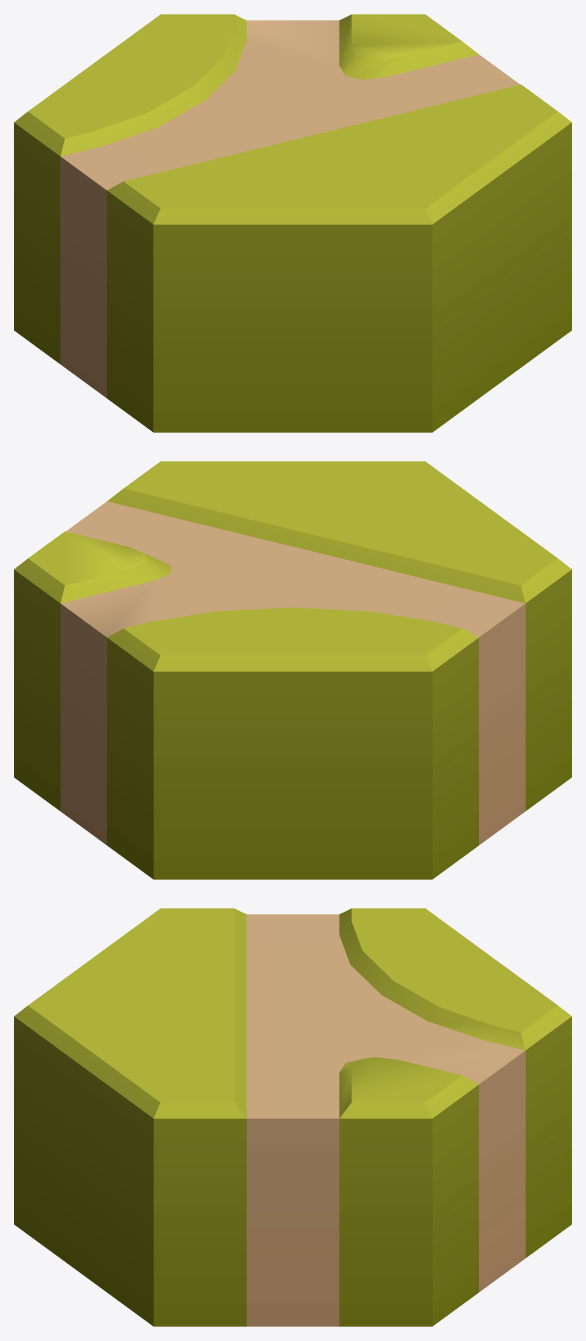
The model's file is kaykit-medieval-hexagon-pack-hex-road-e.glb.
3 views of the same model, one above another, from view 1: azimuth 30°, elevation 25°; view 2: azimuth 150°, elevation 25°; view 3: azimuth 270°, elevation 25° (orthographic).
Visible parts, largest first — view 1: hex_road_E; view 2: hex_road_E; view 3: hex_road_E.
Boxes of the visible parts, <box> form: hex_road_E: <box>14,14,571,432</box>; hex_road_E: <box>14,461,571,879</box>; hex_road_E: <box>14,908,571,1326</box>.
Size of the model in its own units: 2 by 1 by 2.31.
1 material, 1 textured.
